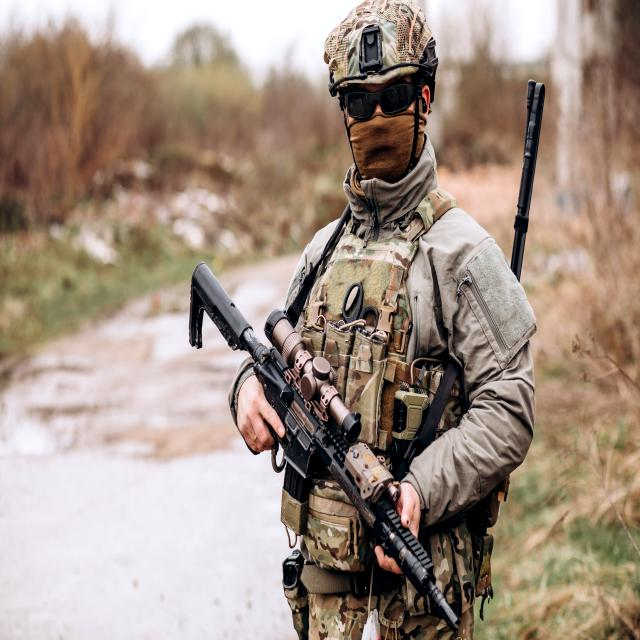rifle: (171, 261, 463, 630)
